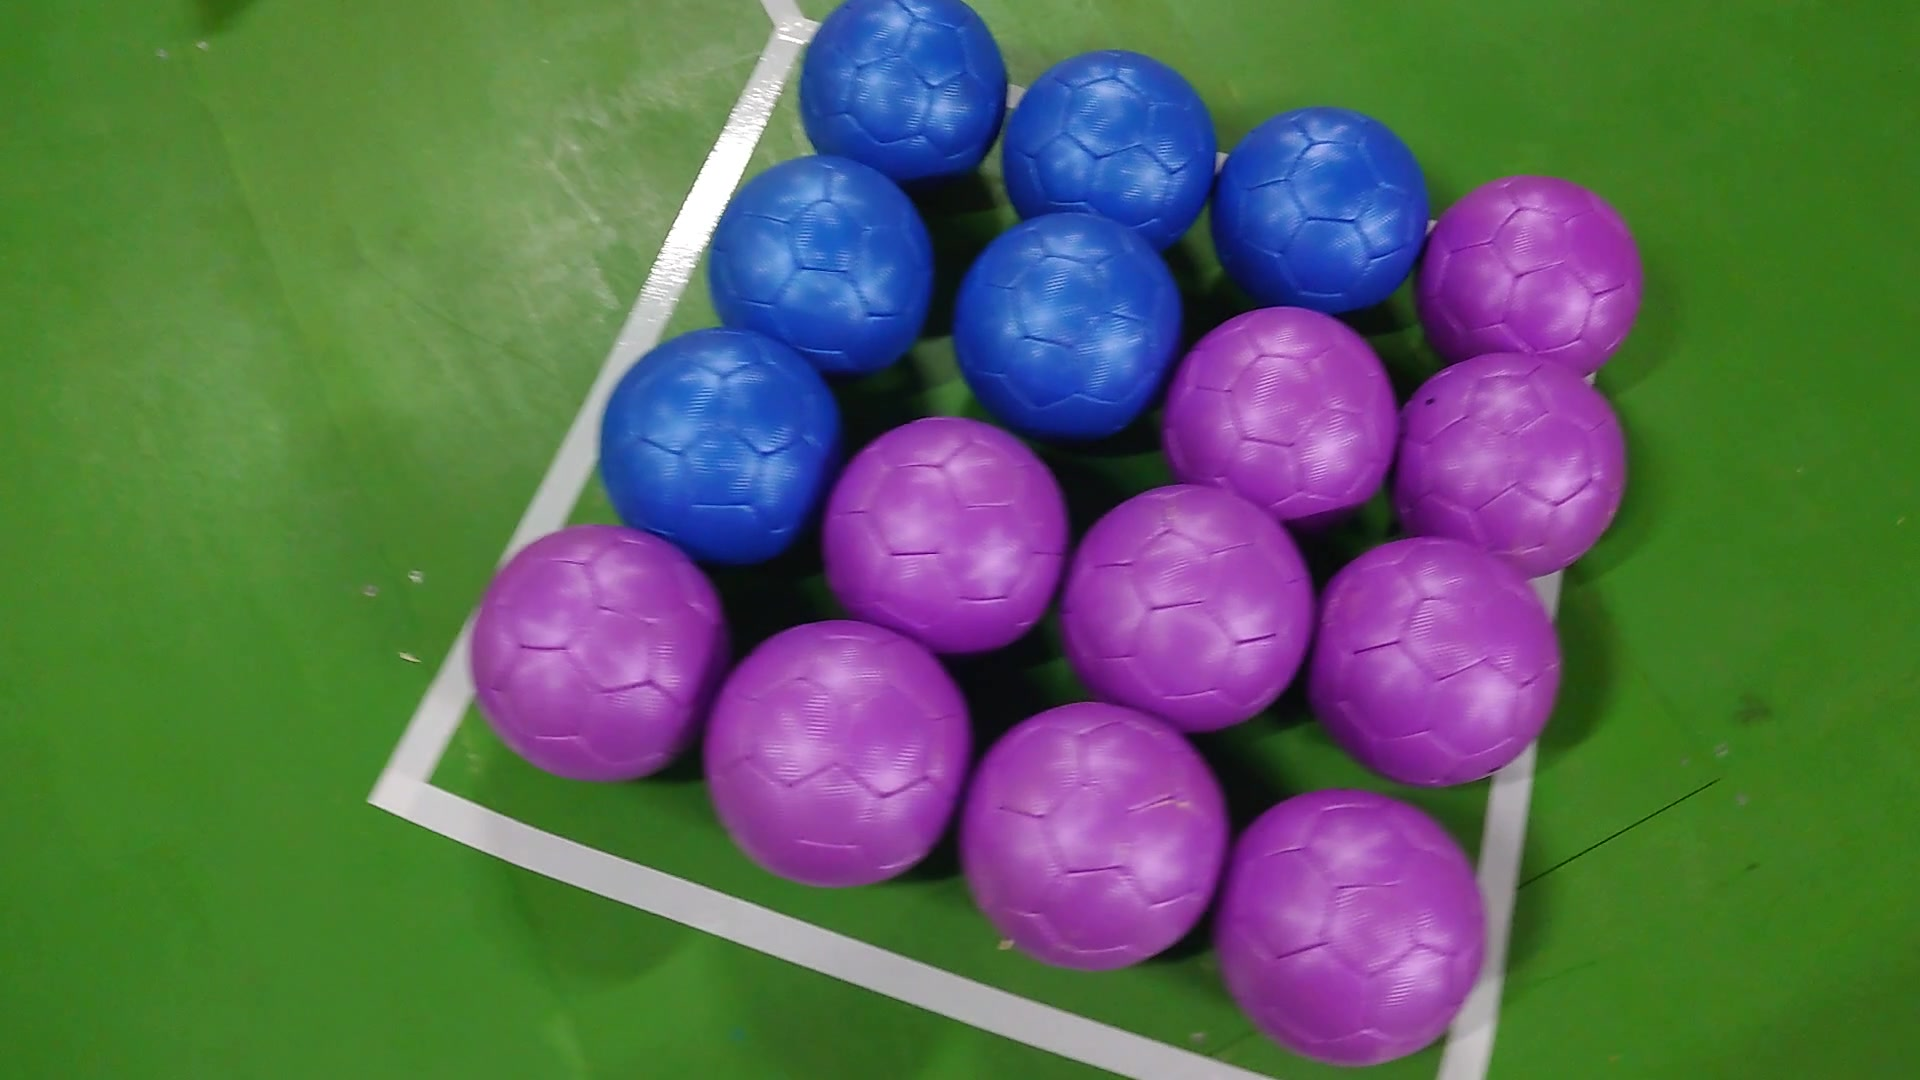blue: (595, 327, 843, 575), (951, 208, 1182, 438), (702, 153, 934, 372), (1208, 104, 1431, 310), (996, 46, 1215, 235), (794, 0, 1006, 183)
purple: (1208, 783, 1489, 1062), (960, 695, 1221, 973), (699, 620, 960, 882), (471, 522, 725, 783), (1309, 535, 1561, 790), (1062, 483, 1312, 735), (816, 411, 1064, 653), (1391, 345, 1626, 575), (1163, 303, 1387, 522), (1414, 177, 1646, 359)
